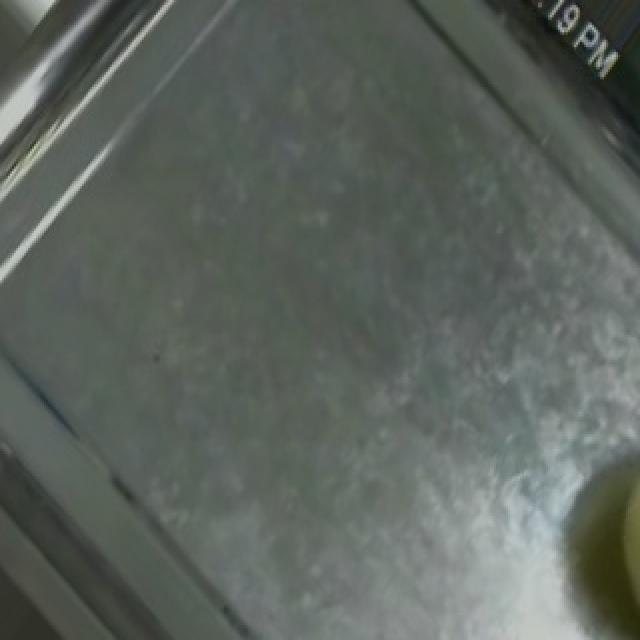Fruit: (594, 404, 640, 640)
